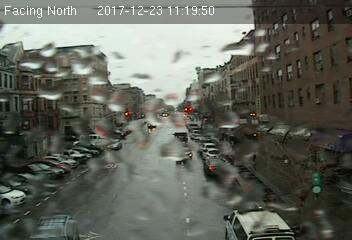car: (203, 156, 227, 175), (173, 130, 189, 144)
police: (221, 205, 306, 240)
